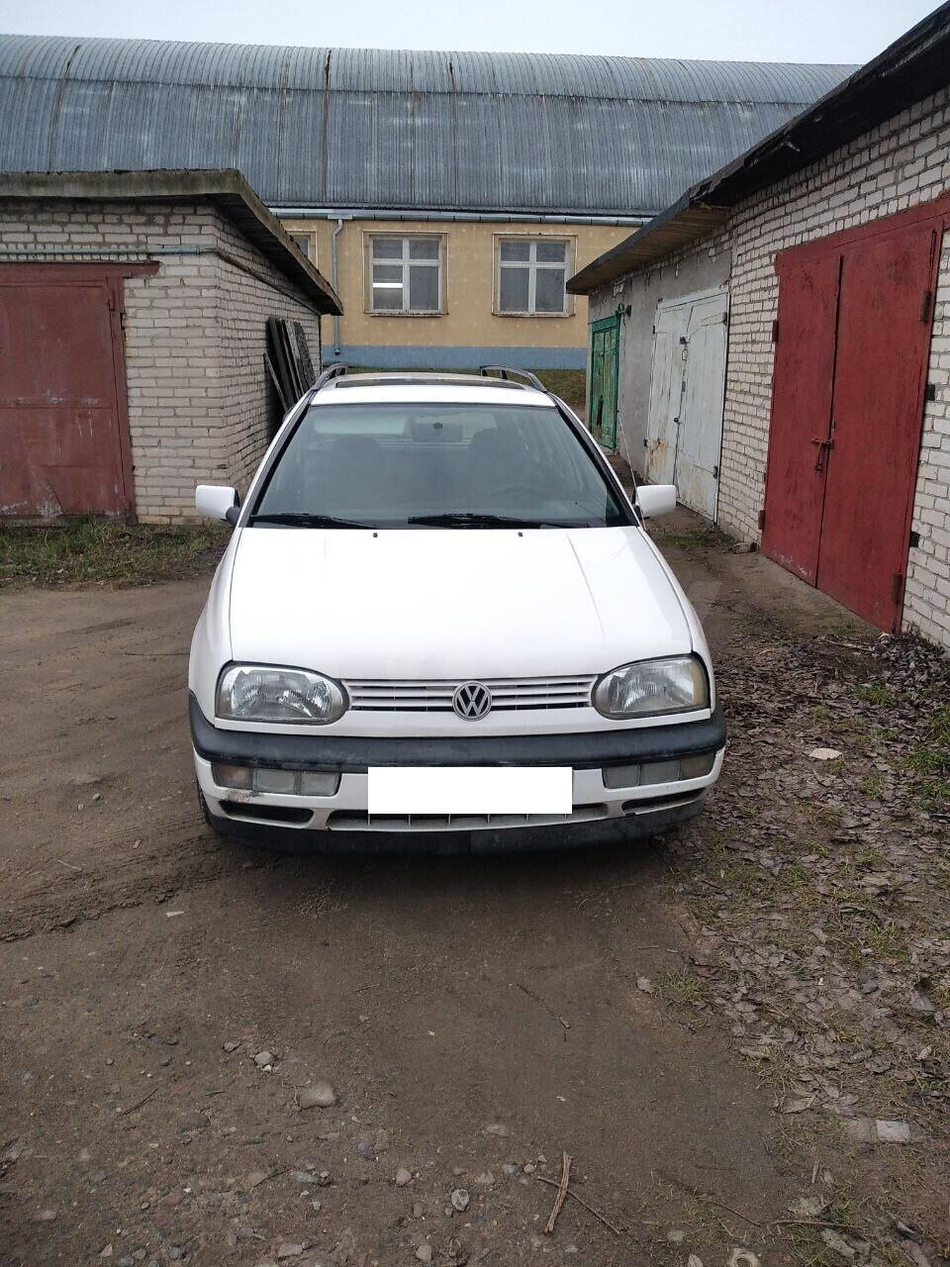Golf_1991-2000: (186, 374, 730, 869)
